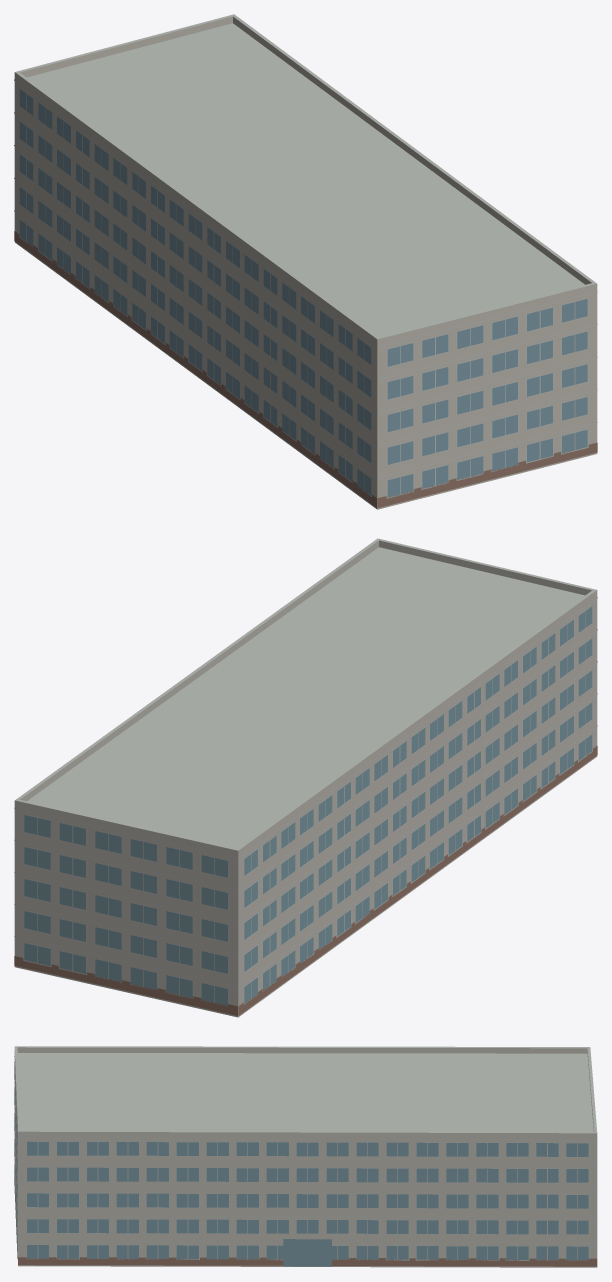
Rendered from public-e3858011-402e-4e0d-af88-b59b0814e9a1.glb.
The picture shows the model from 3 angles, top to bottom: view 1: azimuth 30°, elevation 25°; view 2: azimuth 150°, elevation 25°; view 3: azimuth 270°, elevation 25°; orthographic projection. The views are drawn at different scales.
Parts seen in each view (by area): view 1: public-e3858011-402e-4e0d-af88-b59b0814e9a1; view 2: public-e3858011-402e-4e0d-af88-b59b0814e9a1; view 3: public-e3858011-402e-4e0d-af88-b59b0814e9a1.
Part boxes in pixels (x1=…): public-e3858011-402e-4e0d-af88-b59b0814e9a1: x1=14, y1=14, x2=597, y2=509; public-e3858011-402e-4e0d-af88-b59b0814e9a1: x1=14, y1=538, x2=597, y2=1017; public-e3858011-402e-4e0d-af88-b59b0814e9a1: x1=14, y1=1046, x2=597, y2=1267.
Bounding box in the file's own units: 22.27 × 15.25 × 60.02.
